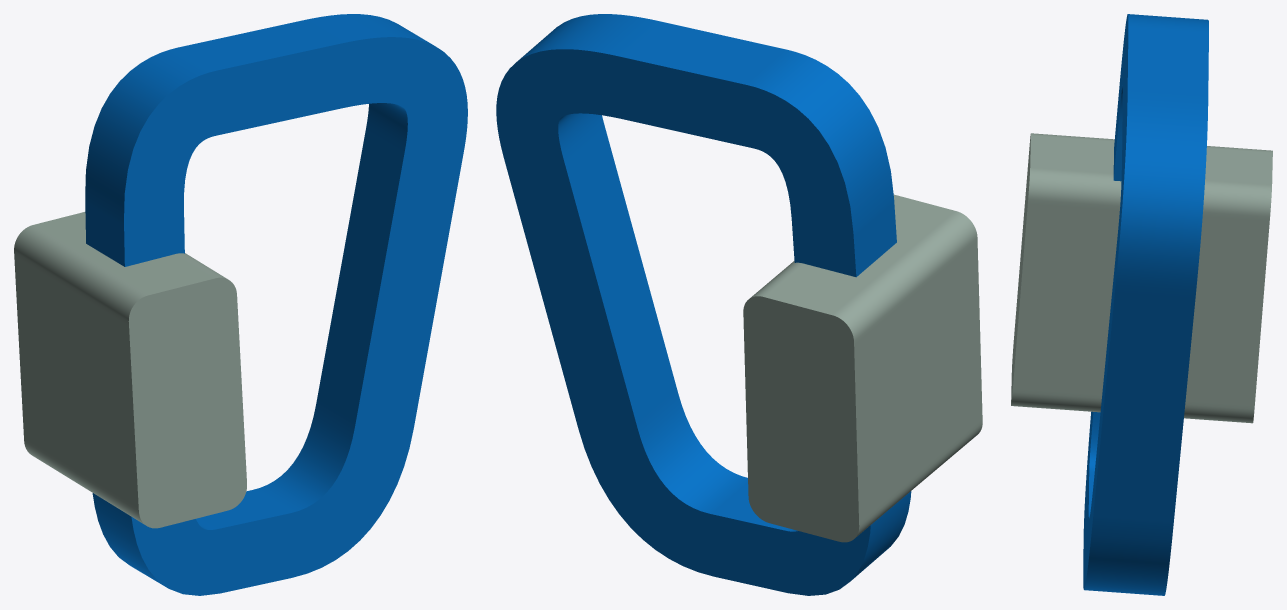
Rendered from carabiner d snap.fbx.
3 views of the same model, side by side, from view 1: azimuth 30°, elevation 25°; view 2: azimuth 150°, elevation 25°; view 3: azimuth 270°, elevation 25° (orthographic). The views are drawn at different scales.
Visible parts, largest first — view 1: Curve, Curve.004; view 2: Curve, Curve.004; view 3: Curve, Curve.004.
Part boxes in pixels (<box>): Curve: <box>85,14,467,595</box>; Curve.004: <box>14,212,246,528</box>; Curve: <box>496,14,911,595</box>; Curve.004: <box>743,194,982,542</box>; Curve: <box>1083,14,1208,595</box>; Curve.004: <box>1011,133,1272,423</box>.
Bounding box in the file's own units: 11.29 × 14.38 × 6.48.
